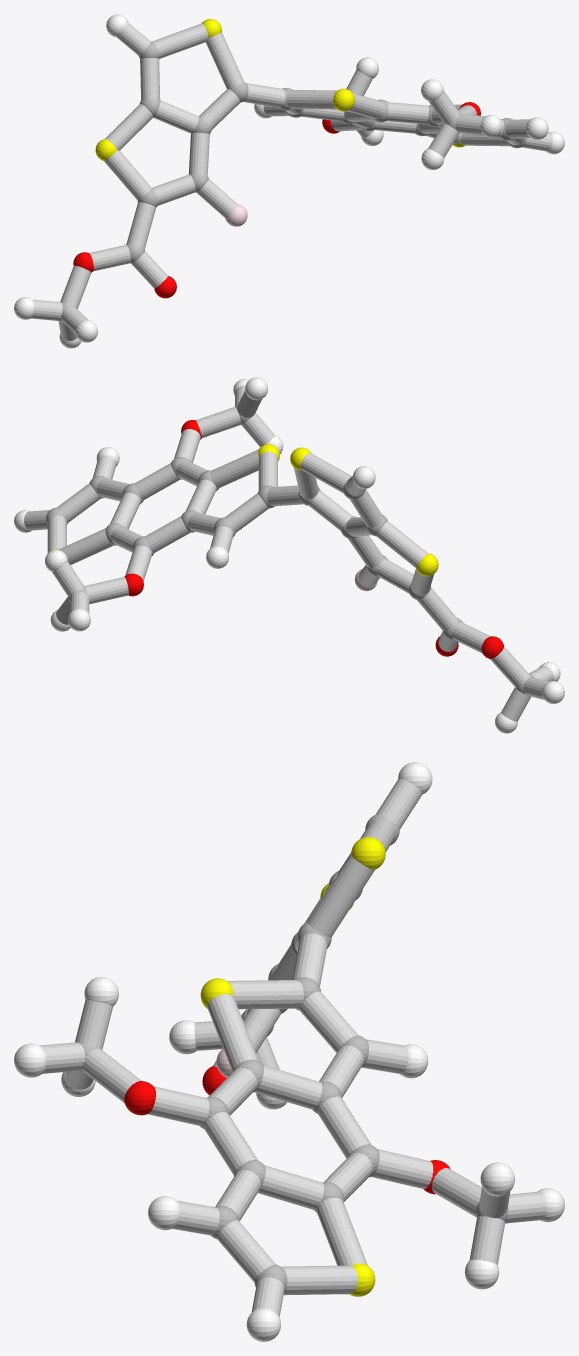
Rendered from color.glb.
3 renders of one model, top to bottom at view 1: azimuth 30°, elevation 25°; view 2: azimuth 150°, elevation 25°; view 3: azimuth 270°, elevation 25°, orthographic. The views are drawn at different scales.
Parts seen in each view (by area): view 1: grp15205, grp8689, grp1, grp7241, grp13395; view 2: grp15205, grp8689, grp1, grp13395, grp7241; view 3: grp15205, grp8689, grp1, grp7241, grp13395.
Boxes of the visible parts, <box> form: grp15205: <box>31,23,552,340</box>; grp8689: <box>14,14,564,348</box>; grp1: <box>60,41,526,322</box>; grp7241: <box>95,19,464,160</box>; grp13395: <box>73,102,480,298</box>; grp15205: <box>24,385,553,721</box>; grp8689: <box>14,377,564,733</box>; grp1: <box>46,404,534,694</box>; grp13395: <box>124,420,503,658</box>; grp7241: <box>52,444,438,576</box>; grp15205: <box>40,778,546,1317</box>; grp8689: <box>14,762,564,1341</box>; grp1: <box>79,814,508,1292</box>; grp7241: <box>200,837,385,1296</box>; grp13395: <box>124,1066,450,1194</box>.
Size of the model in its own units: 16.48 by 7.93 by 9.58.
